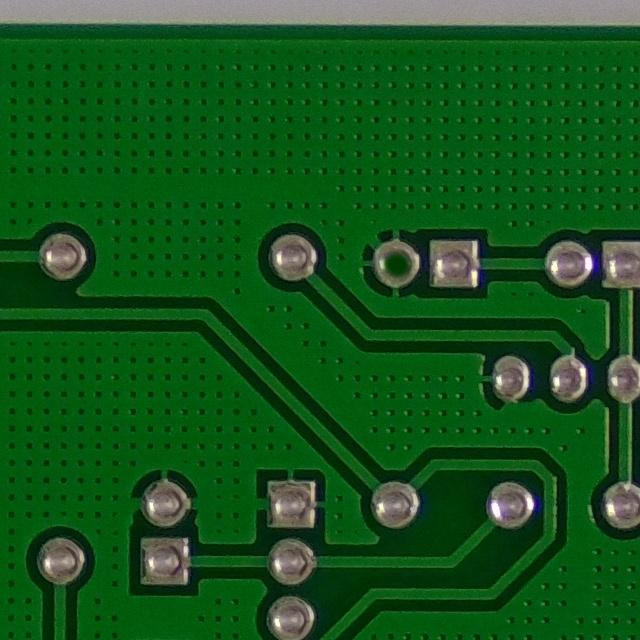missing_hole: (368, 227, 428, 302)
